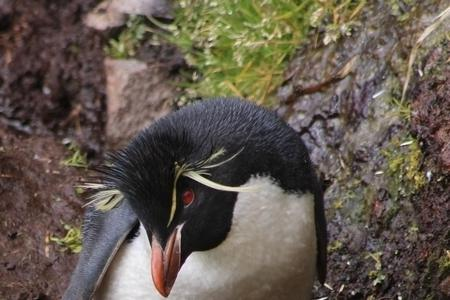Southern Rockhopper Penguin: (28, 81, 349, 300)
